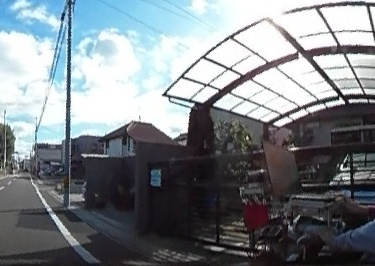person: (309, 72, 375, 266)
